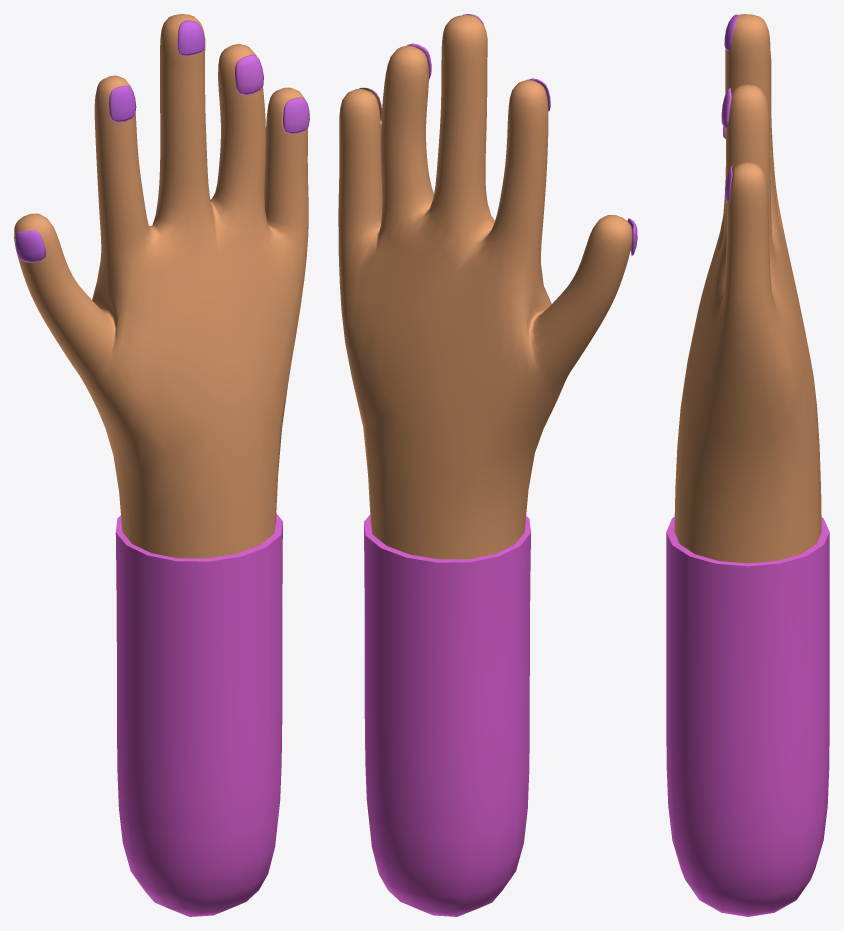
File: hand.fbx
3 renders of one model, left to right at view 1: azimuth 30°, elevation 25°; view 2: azimuth 150°, elevation 25°; view 3: azimuth 270°, elevation 25°, orthographic.
Visible parts, largest first — view 1: Cube, Sleeve, RingNail, IndexNail, ThumbNail, SmallNail, MiddleNail; view 2: Cube, Sleeve; view 3: Sleeve, Cube.
Boxes of the visible parts, x1,y1,x2,y2 form: Cube: [14, 14, 308, 558]; Sleeve: [115, 513, 282, 916]; RingNail: [235, 54, 263, 95]; IndexNail: [109, 85, 136, 122]; ThumbNail: [15, 230, 45, 262]; SmallNail: [283, 97, 309, 134]; MiddleNail: [177, 20, 204, 55]; Cube: [338, 15, 632, 559]; Sleeve: [364, 514, 530, 916]; Sleeve: [666, 517, 829, 916]; Cube: [674, 14, 821, 563].
Size of the model in its own units: 435 by 1276 by 214.
